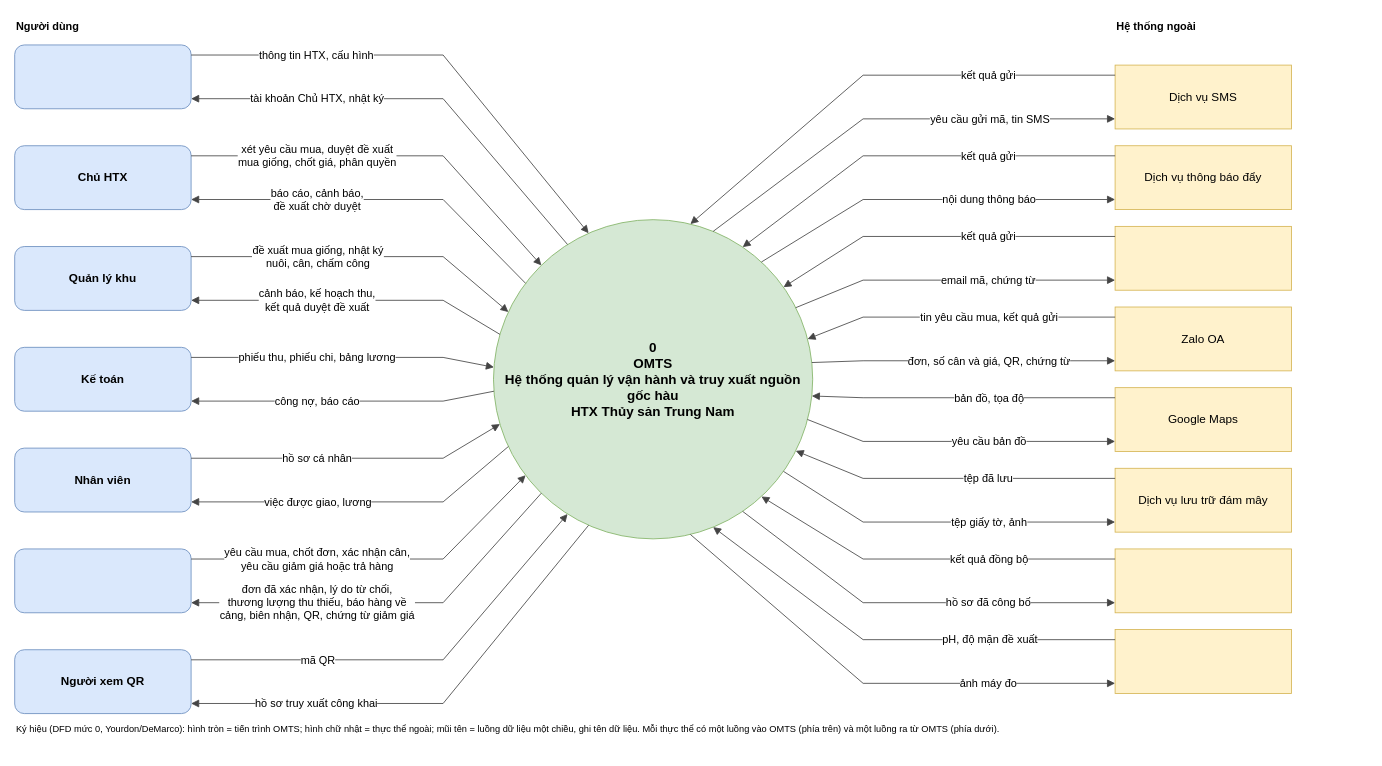
This 1382x766 diagram has some shape labels left out. Here are the shapes that lost their labels. From the top down, the box of each, then its label:
(14, 44, 191, 109): Quản trị hệ thống
(1114, 226, 1292, 290): Dịch vụ email
(14, 548, 191, 613): Thương lái
(1114, 548, 1292, 613): Cổng truy xuất quốc gia
(1114, 629, 1292, 693): Dịch vụ OCR
